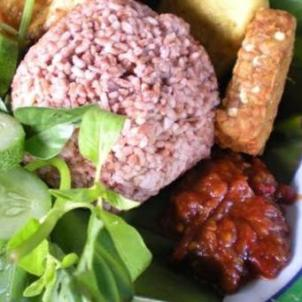Nasi Merah: (10, 8, 228, 200)
